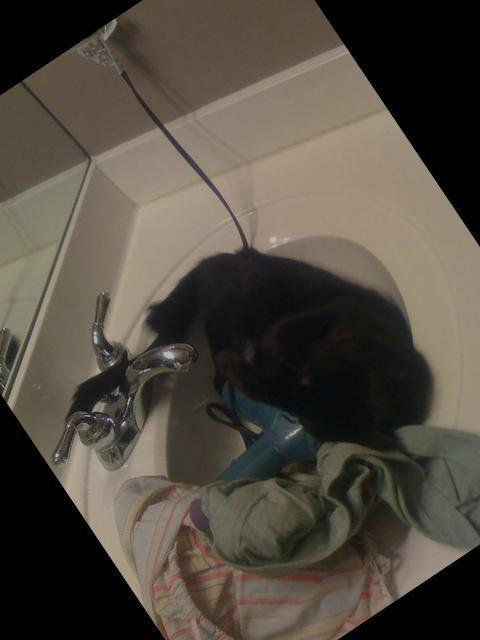Lavamanos: (15, 142, 480, 640)
Otro Obstaculo: (114, 175, 465, 542)
